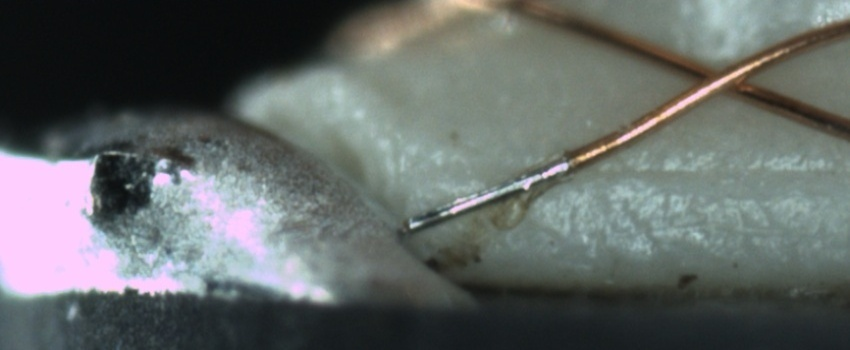CL: (668, 48, 766, 104)
DL: (521, 143, 849, 200)
TS: (396, 155, 570, 236)
